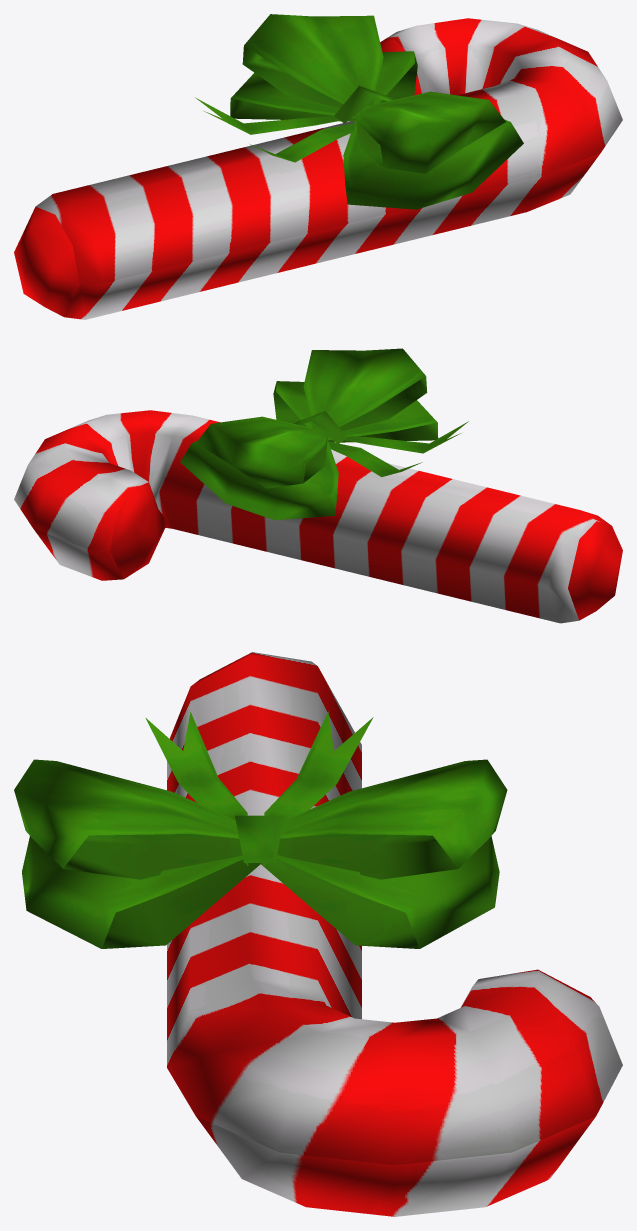
File: Pickup_Bbt01.glb
3 views of the same model, one above another, from view 1: azimuth 30°, elevation 25°; view 2: azimuth 150°, elevation 25°; view 3: azimuth 270°, elevation 25° (orthographic). The views are drawn at different scales.
Visible parts, largest first — view 1: Plane006; view 2: Plane006; view 3: Plane006.
Part boxes in pixels (x1,y1,x2,y2): Plane006: (14, 14, 622, 319); Plane006: (14, 348, 622, 623); Plane006: (14, 652, 622, 1216).
Size of the model in its own units: 0.3883 by 0.1058 by 0.2204.
1 material, 1 textured.
